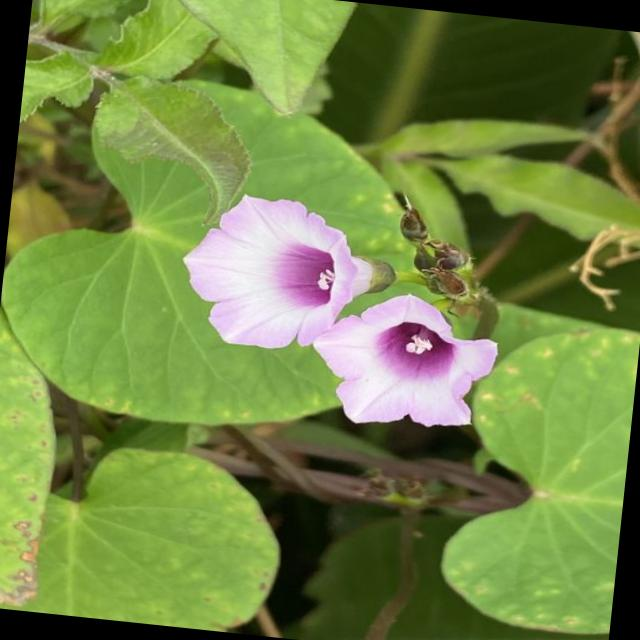ipomoea: (163, 185, 516, 440), (171, 185, 383, 362), (302, 282, 506, 439)
